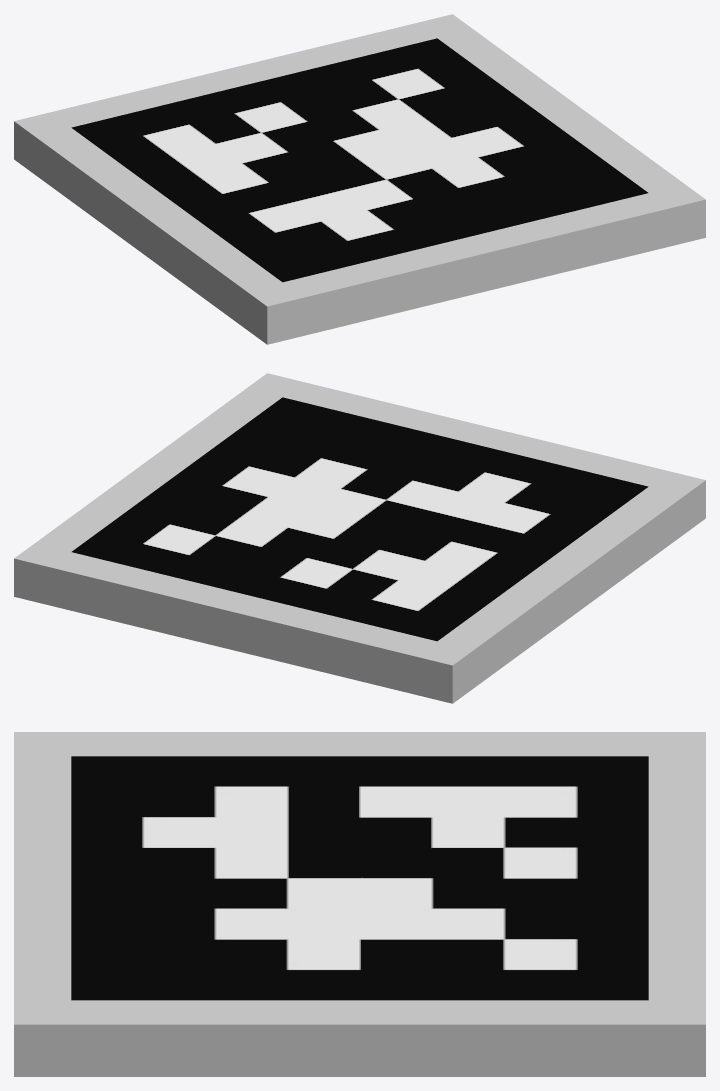
The model's file is sag.obj.
3 renders of one model, top to bottom at view 1: azimuth 30°, elevation 25°; view 2: azimuth 150°, elevation 25°; view 3: azimuth 270°, elevation 25°, orthographic. The views are drawn at different scales.
Parts seen in each view (by area): view 1: box-IMG-1924-Image1, box-SKP-0128_White; view 2: box-IMG-1924-Image1, box-SKP-0128_White; view 3: box-IMG-1924-Image1, box-SKP-0128_White.
Boxes of the visible parts, x1=… form: box-IMG-1924-Image1: x1=71, y1=38, x2=647, y2=282; box-SKP-0128_White: x1=14, y1=14, x2=705, y2=344; box-IMG-1924-Image1: x1=72, y1=397, x2=648, y2=641; box-SKP-0128_White: x1=14, y1=373, x2=705, y2=703; box-IMG-1924-Image1: x1=71, y1=756, x2=648, y2=1000; box-SKP-0128_White: x1=14, y1=732, x2=705, y2=1076.
Size of the model in its own units: 0.12 by 0.01 by 0.12.
2 materials, 1 textured.
